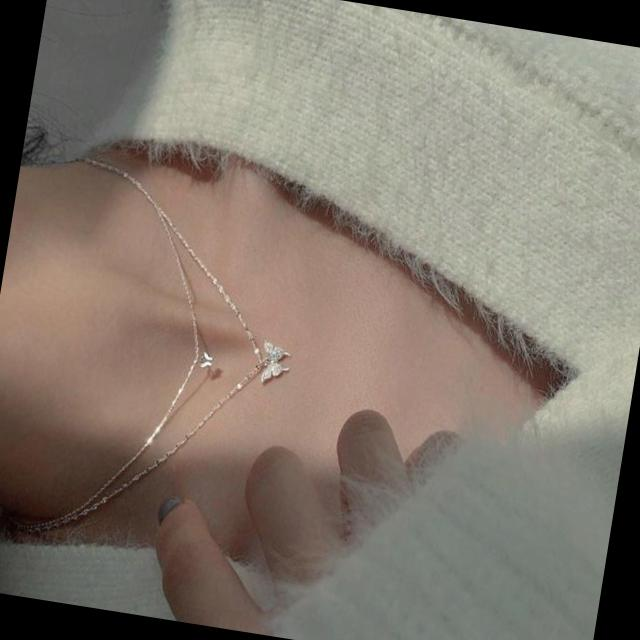Nail: (159, 497, 183, 521)
